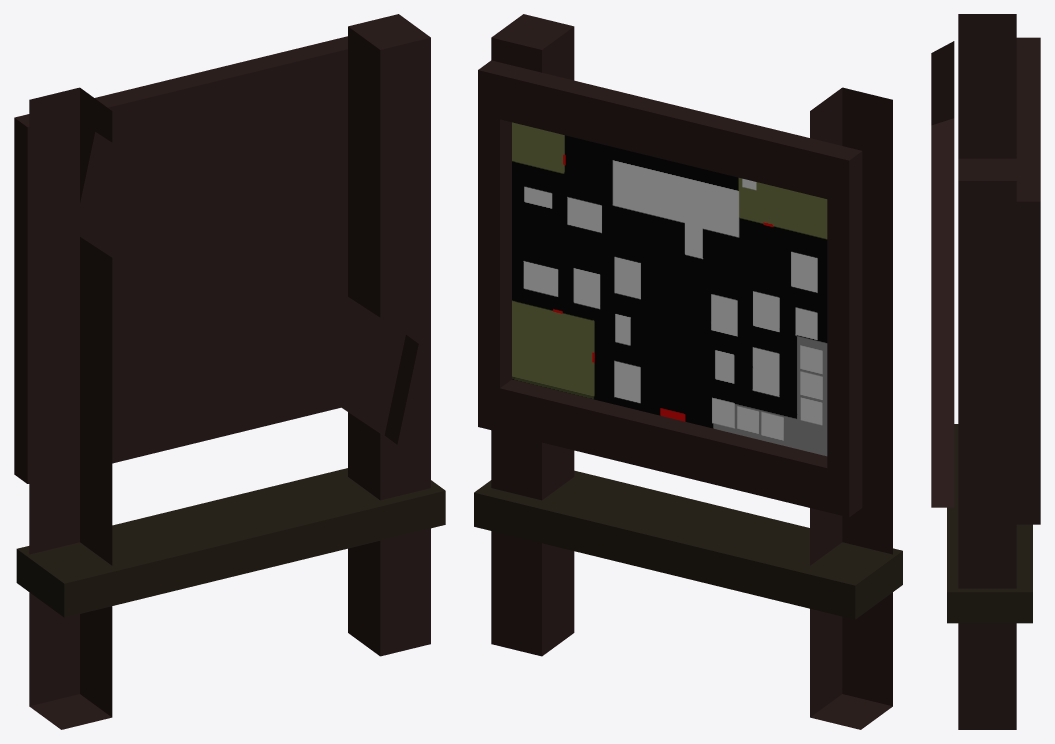
Rendered from BORD.fbx.
The picture shows the model from 3 angles, left to right: view 1: azimuth 30°, elevation 25°; view 2: azimuth 150°, elevation 25°; view 3: azimuth 270°, elevation 25°; orthographic projection. The views are drawn at different scales.
Visible parts, largest first — view 1: Cube.002, Cube.003; view 2: Cube.002, Cube.005, Cube.003; view 3: Cube.002, Cube.003.
Boxes of the visible parts, x1=… form: Cube.002: x1=14, y1=14, x2=430, y2=729; Cube.003: x1=16, y1=468, x2=445, y2=617; Cube.002: x1=478, y1=14, x2=892, y2=729; Cube.005: x1=512, y1=122, x2=827, y2=456; Cube.003: x1=474, y1=470, x2=902, y2=619; Cube.002: x1=931, y1=14, x2=1040, y2=729; Cube.003: x1=947, y1=424, x2=1032, y2=623.
Size of what is drawn, in the model's own units: 562 by 860 by 155.
3 materials, 1 textured.
